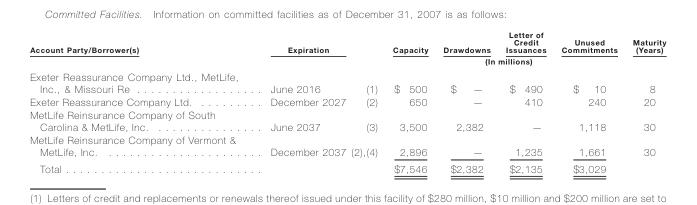table: (29, 29, 665, 174)
table column: (29, 29, 253, 174), (253, 29, 347, 174), (553, 29, 624, 174), (435, 29, 497, 174), (497, 29, 553, 174), (384, 29, 435, 174), (624, 29, 665, 174), (347, 29, 384, 174)
table column header: (29, 29, 665, 95)
table row: (29, 133, 665, 160), (29, 107, 665, 133), (29, 29, 665, 54), (29, 74, 665, 95), (29, 54, 665, 74), (29, 160, 665, 174), (29, 95, 665, 107)
table spanning cell: (29, 29, 253, 95), (384, 54, 624, 74), (253, 54, 347, 95), (253, 29, 384, 54), (624, 29, 665, 95), (347, 54, 384, 95)
